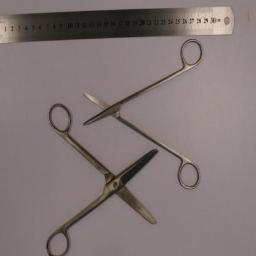Dressing Scissors: (46, 101, 158, 255)
